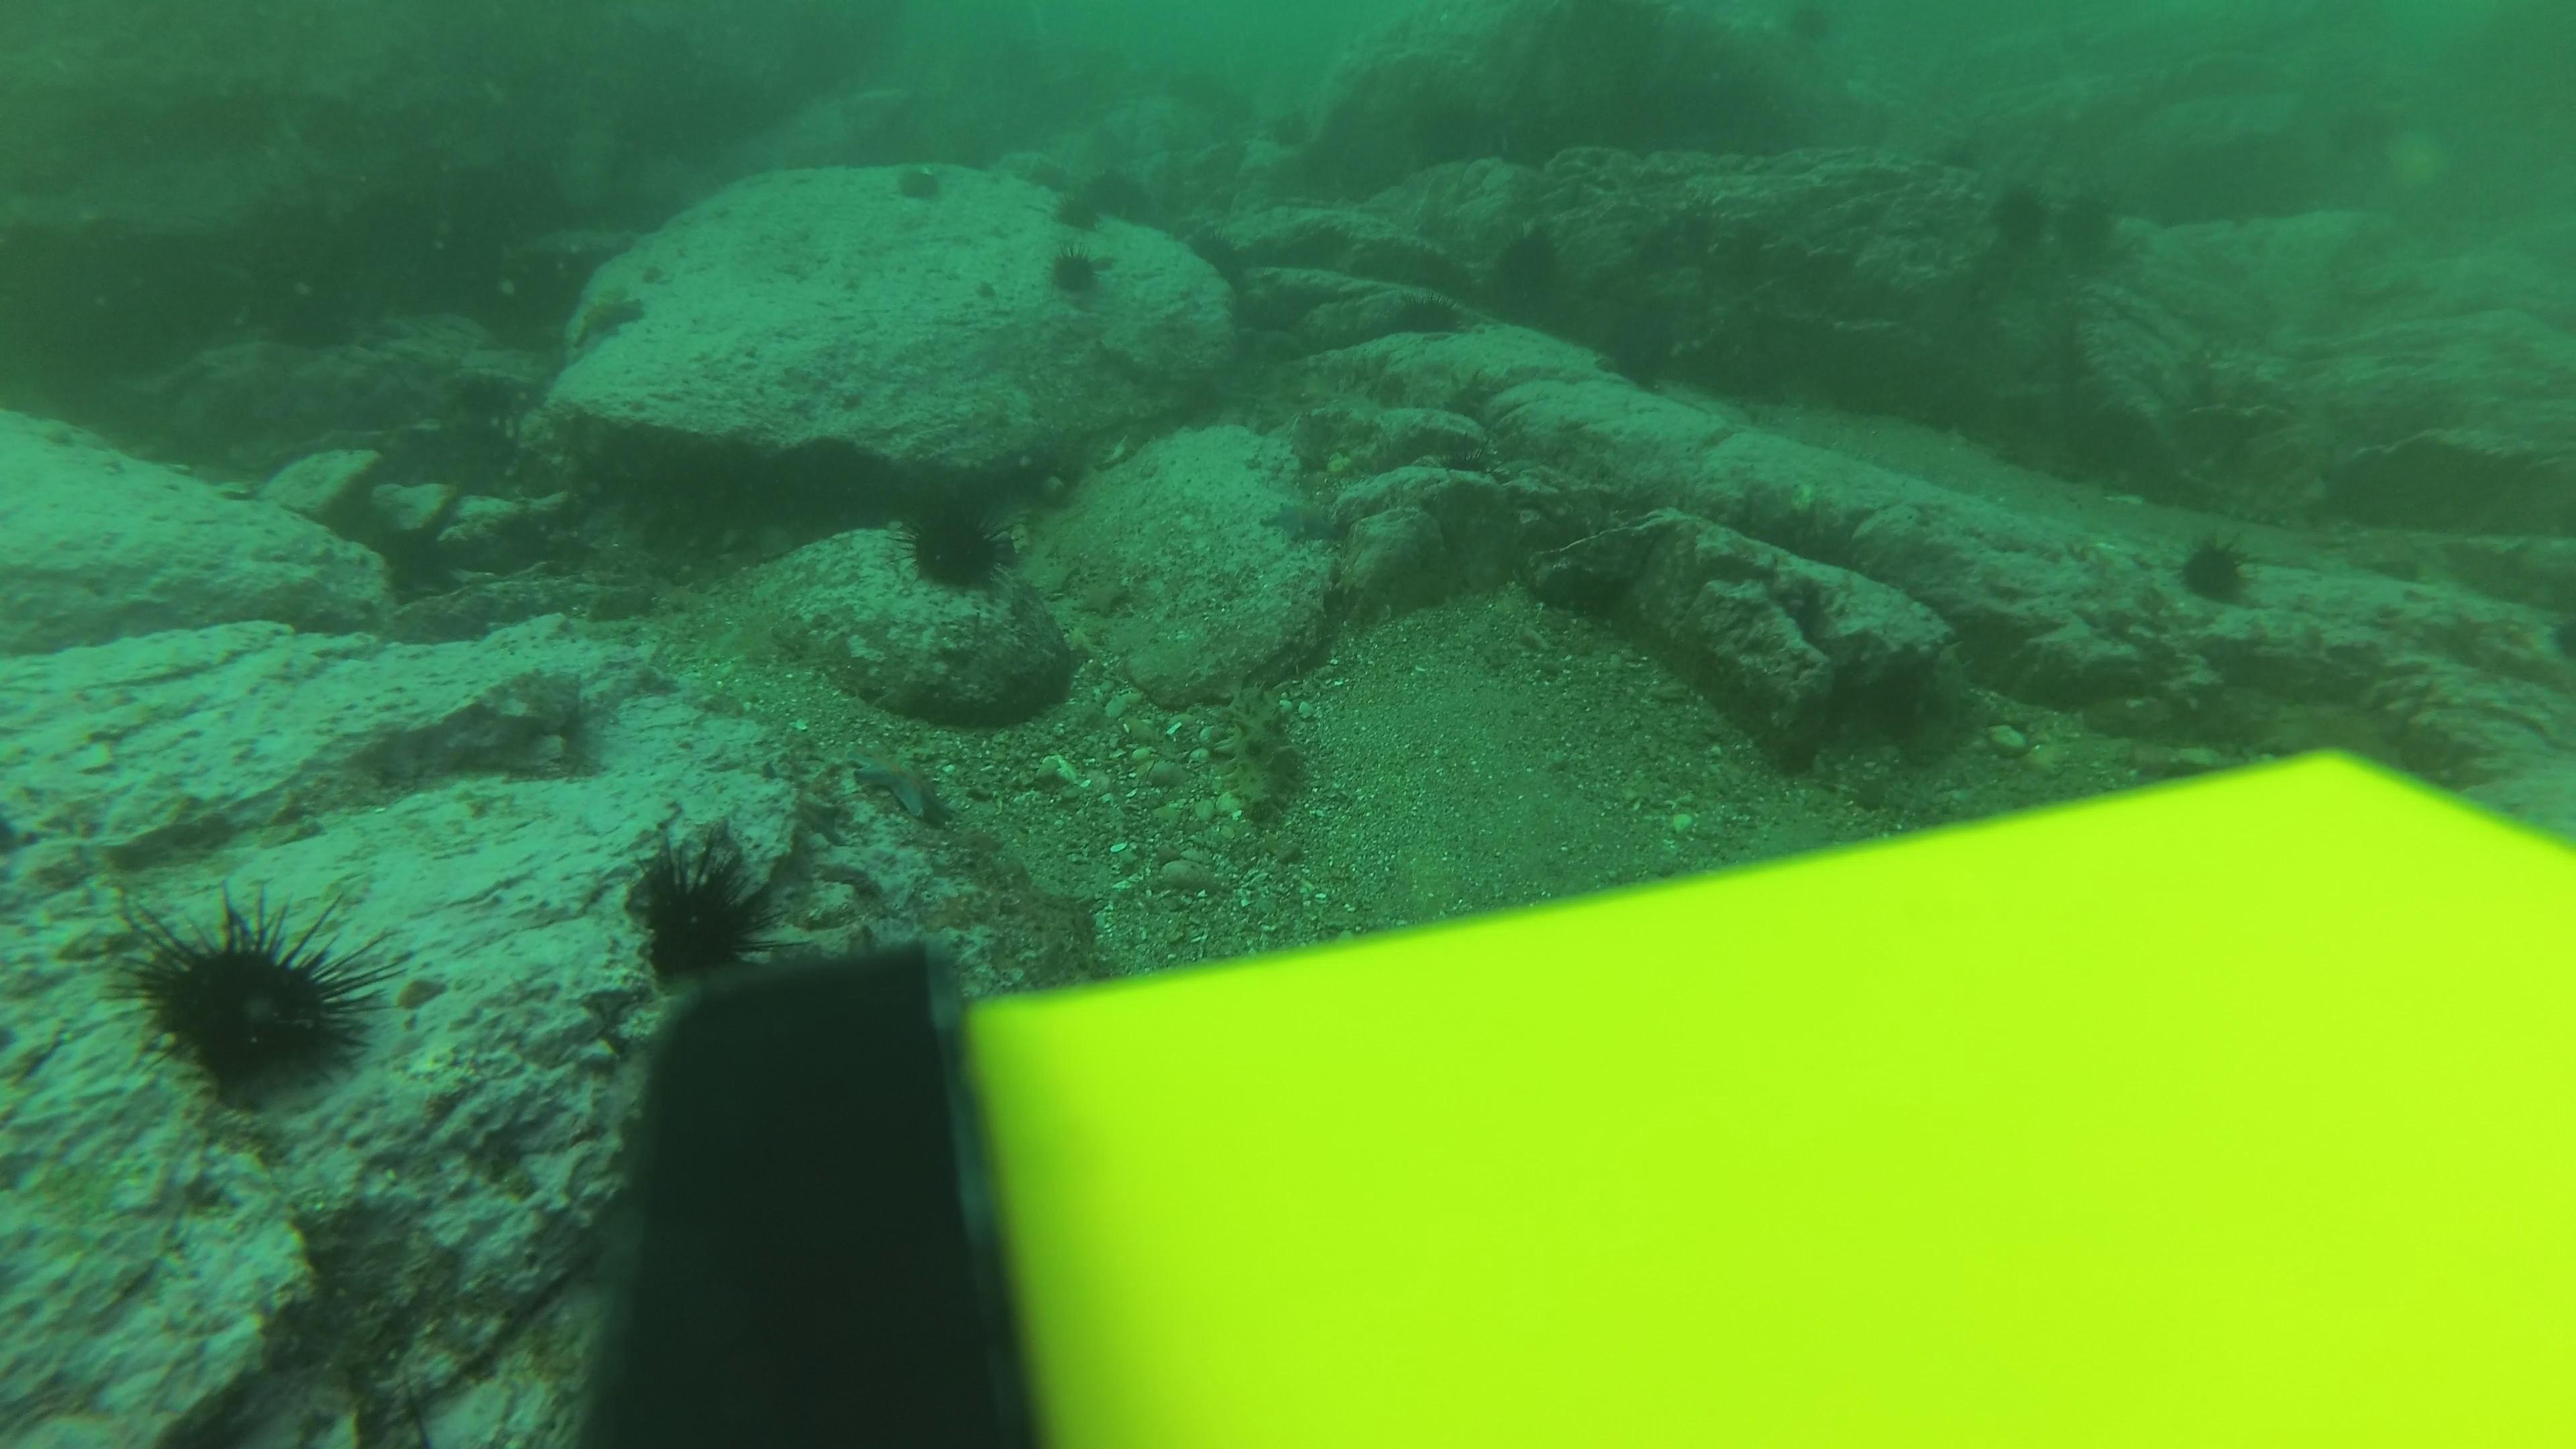echinus: (113, 881, 395, 1104), (617, 823, 778, 989), (893, 492, 1019, 598), (2166, 529, 2265, 612), (1982, 175, 2058, 258), (1598, 318, 1679, 386), (1039, 239, 1116, 306), (1426, 430, 1502, 492), (886, 157, 952, 211), (1401, 288, 1456, 334), (1047, 191, 1100, 237), (1093, 173, 1146, 219), (1191, 230, 1244, 276), (1499, 230, 1552, 274)
holothurian: (1205, 686, 1316, 840)
starfish: (842, 747, 961, 830), (561, 283, 651, 349), (1261, 492, 1353, 550)
